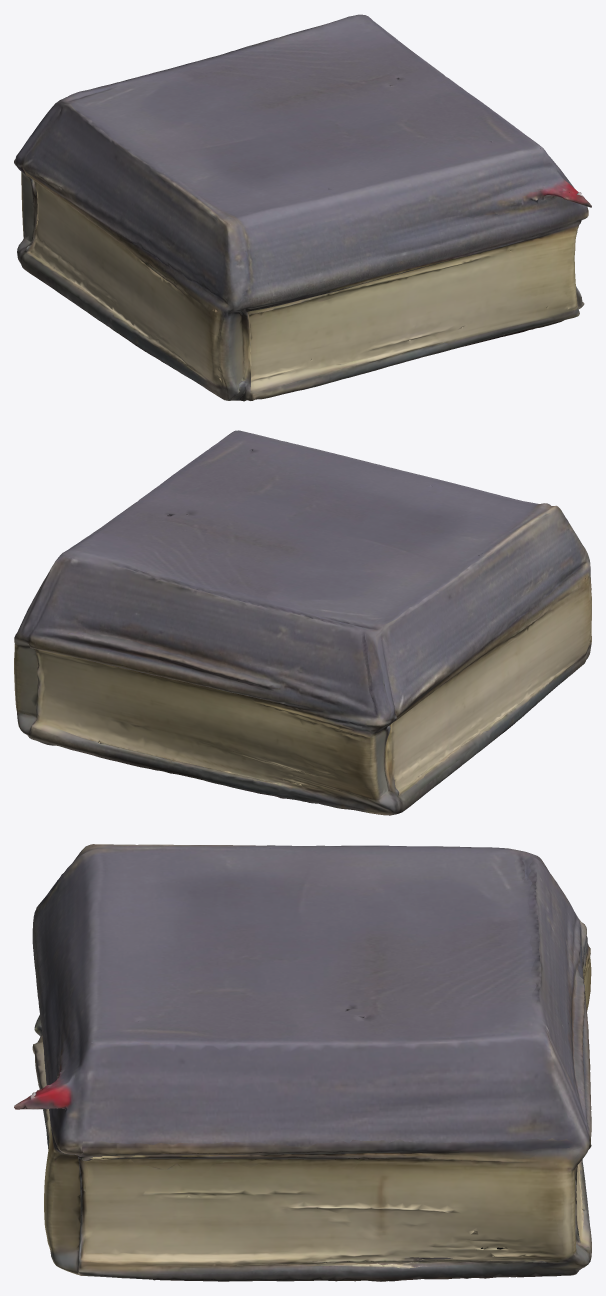
The model's file is kit_book.glb.
The picture shows the model from 3 angles, top to bottom: view 1: azimuth 30°, elevation 25°; view 2: azimuth 150°, elevation 25°; view 3: azimuth 270°, elevation 25°; orthographic projection. The views are drawn at different scales.
Visible parts, largest first — view 1: kit_book_s7_fit; view 2: kit_book_s7_fit; view 3: kit_book_s7_fit.
Boxes of the visible parts, x1,y1,x2,y2 form: kit_book_s7_fit: (14,14,591,401); kit_book_s7_fit: (14,430,591,815); kit_book_s7_fit: (14,844,591,1281).
Bounding box in the file's own units: 0.2101 × 0.096 × 0.2142.
1 material, 1 textured.
